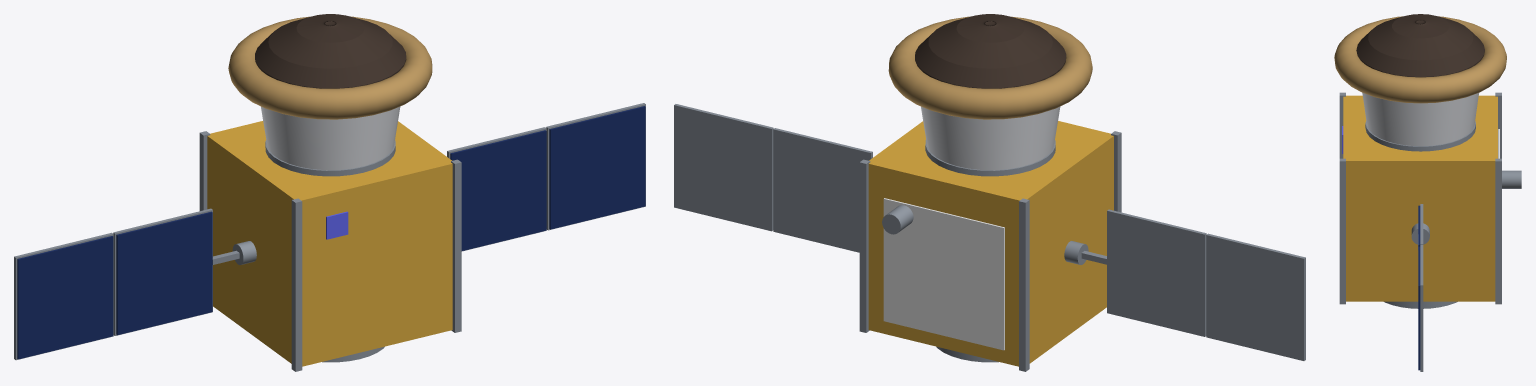
File: SP-ONC.glb
3 renders of one model, left to right at view 1: azimuth 30°, elevation 25°; view 2: azimuth 150°, elevation 25°; view 3: azimuth 270°, elevation 25°, orthographic. The views are drawn at different scales.
Visible parts, largest first — view 1: service_module_structure, solar_panel_-X1, solar_panel_-X2, solar_panel_+X2, solar_panel_+X1, nose, heat_shield_packed, capsule_backshell, corner_rail_-X-Y, corner_rail_+X-Y, panel_frame_-X2, panel_frame_+X2 (+4 smaller); view 2: service_module_structure, radiator_+Y_face, panel_frame_-X1, panel_frame_-X2, panel_frame_+X2, panel_frame_+X1, nose, heat_shield_packed, capsule_backshell, corner_rail_-X+Y, corner_rail_+X+Y, separation_interface (+2 smaller); view 3: service_module_structure, nose, heat_shield_packed, capsule_backshell, corner_rail_+X+Y, corner_rail_+X-Y, separation_interface, panel_frame_+X2, launch_separation_ring, star_tracker, solar_panel_+X2, corner_rail_-X-Y (+2 smaller).
Part boxes in pixels (box(x1,y1,x2,y2)): service_module_structure: box(207, 121, 452, 366); solar_panel_-X1: box(116, 211, 212, 335); solar_panel_-X2: box(17, 236, 113, 359); solar_panel_+X2: box(549, 106, 645, 229); solar_panel_+X1: box(450, 130, 546, 250); nose: box(255, 14, 406, 88); heat_shield_packed: box(228, 16, 432, 119); capsule_backshell: box(261, 106, 400, 170); corner_rail_-X-Y: box(291, 198, 302, 371); corner_rail_+X-Y: box(451, 159, 461, 332); panel_frame_-X2: box(14, 232, 113, 360); panel_frame_+X2: box(546, 103, 645, 230); service_module_structure: box(868, 121, 1113, 366); radiator_+Y_face: box(883, 198, 1004, 350); panel_frame_-X1: box(1107, 209, 1206, 336); panel_frame_-X2: box(1206, 233, 1305, 360); panel_frame_+X2: box(674, 104, 773, 231); panel_frame_+X1: box(773, 128, 872, 252); nose: box(915, 14, 1066, 88); heat_shield_packed: box(888, 16, 1092, 119); capsule_backshell: box(921, 106, 1060, 170); corner_rail_-X+Y: box(1019, 198, 1029, 371); corner_rail_+X+Y: box(859, 159, 870, 332); separation_interface: box(925, 140, 1055, 176); service_module_structure: box(1343, 95, 1497, 301); nose: box(1356, 14, 1484, 77); heat_shield_packed: box(1334, 16, 1506, 103); capsule_backshell: box(1362, 93, 1478, 146); corner_rail_+X+Y: box(1495, 158, 1501, 304); corner_rail_+X-Y: box(1339, 158, 1345, 304); separation_interface: box(1365, 121, 1475, 151); panel_frame_+X2: box(1420, 245, 1423, 371); launch_separation_ring: box(1384, 301, 1457, 308); star_tracker: box(1502, 170, 1521, 188); solar_panel_+X2: box(1418, 246, 1420, 370); corner_rail_-X-Y: box(1339, 92, 1345, 158).
Bounding box in the file's own units: 2.35 × 1.12 × 0.716.
